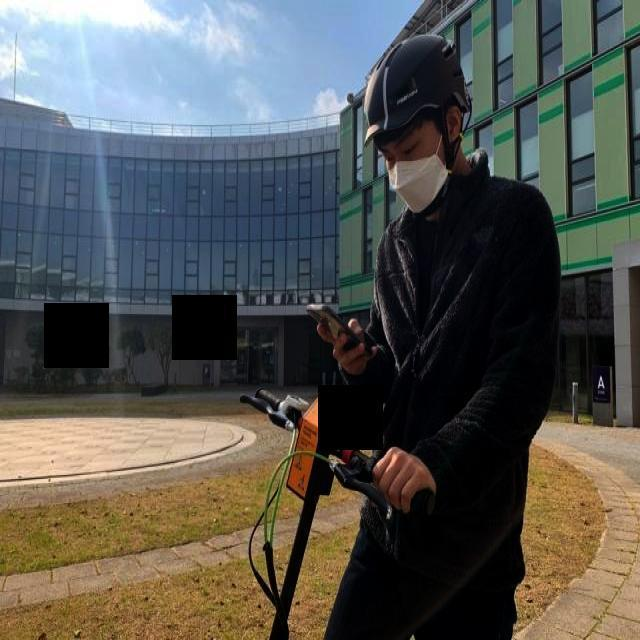helmet: (362, 34, 474, 218)
